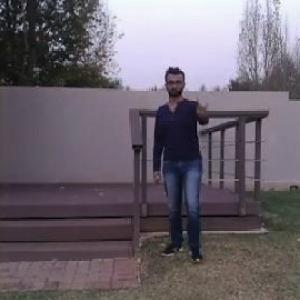takeoff-hand: (190, 94, 216, 124)
